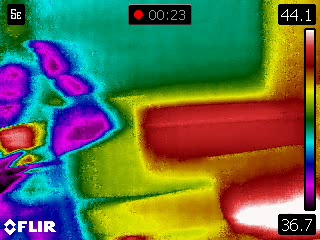human: (1, 39, 129, 240)
